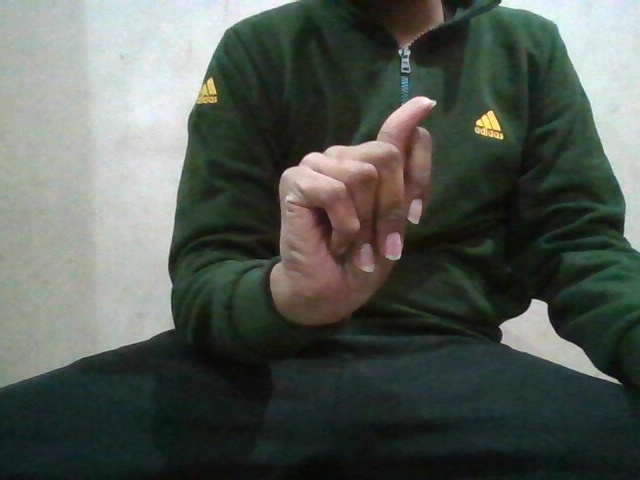T: (270, 90, 442, 314)
